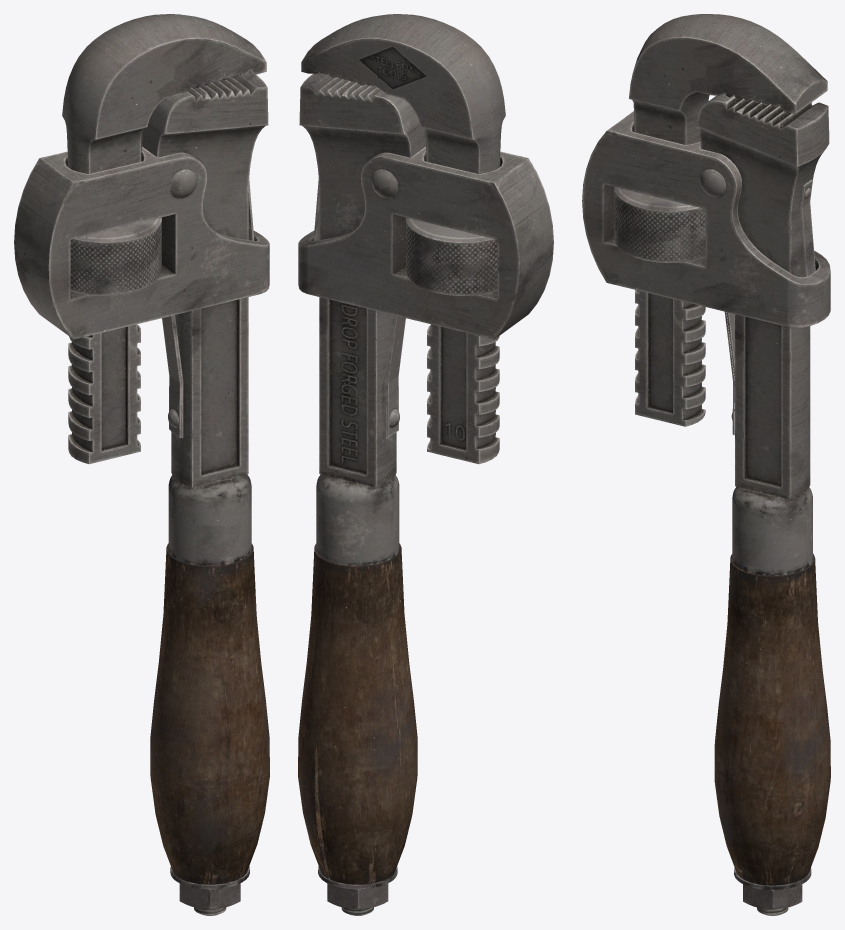
The model's file is adjustable_wrench.glb.
3 views of the same model, side by side, from view 1: azimuth 30°, elevation 25°; view 2: azimuth 150°, elevation 25°; view 3: azimuth 330°, elevation 25° (orthographic). The views are drawn at different scales.
Bounding box in the file's own units: 0.0683 × 0.2541 × 0.0306.
1 material, 1 textured.
